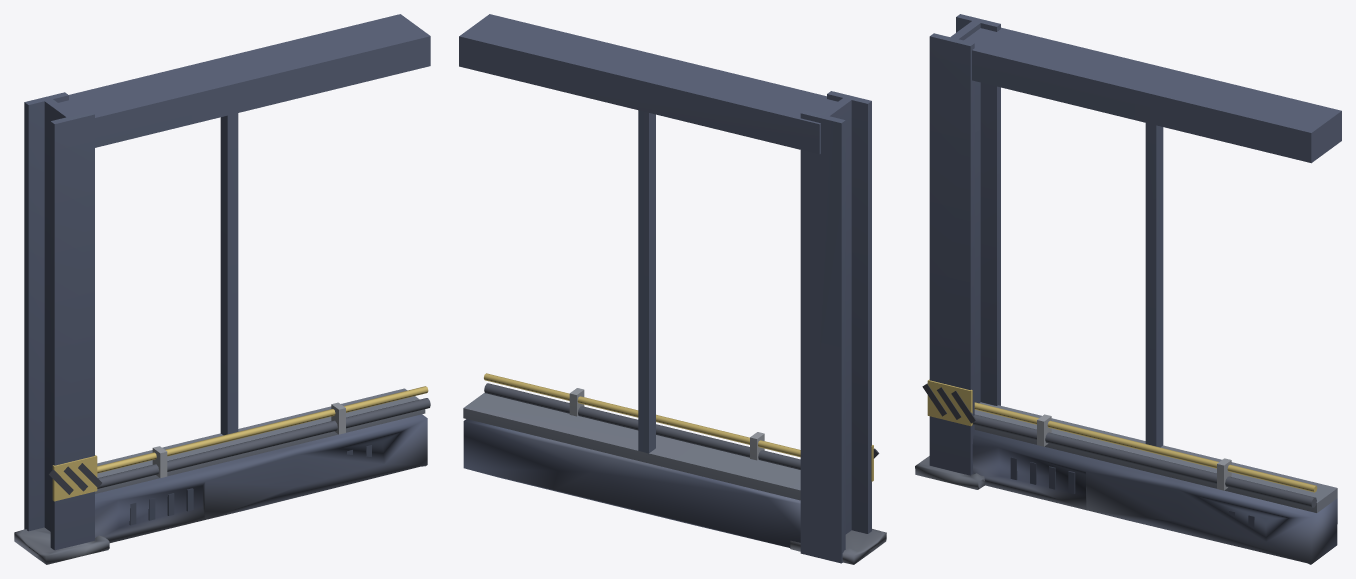
File: bay_wall.glb
3 renders of one model, left to right at view 1: azimuth 30°, elevation 25°; view 2: azimuth 150°, elevation 25°; view 3: azimuth 330°, elevation 25°, orthographic.
Parts seen in each view (by area): view 1: wall; view 2: wall; view 3: wall.
Boxes of the visible parts, x1,y1,x2,y2 form: wall: (14,14,430,564); wall: (459,14,886,564); wall: (915,14,1341,564).
Bounding box in the file's own units: 3.27 × 3.5 × 0.5092.
